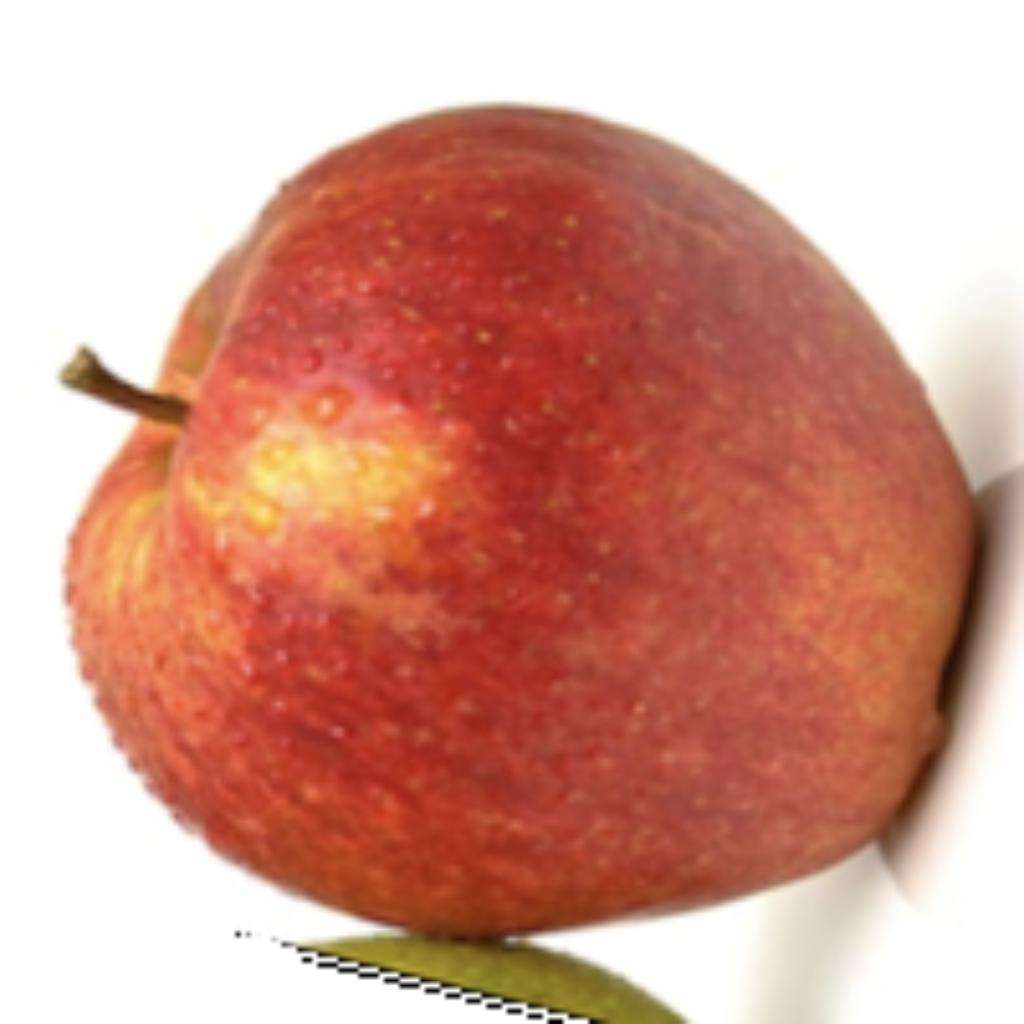apple: (51, 92, 1019, 1019)
